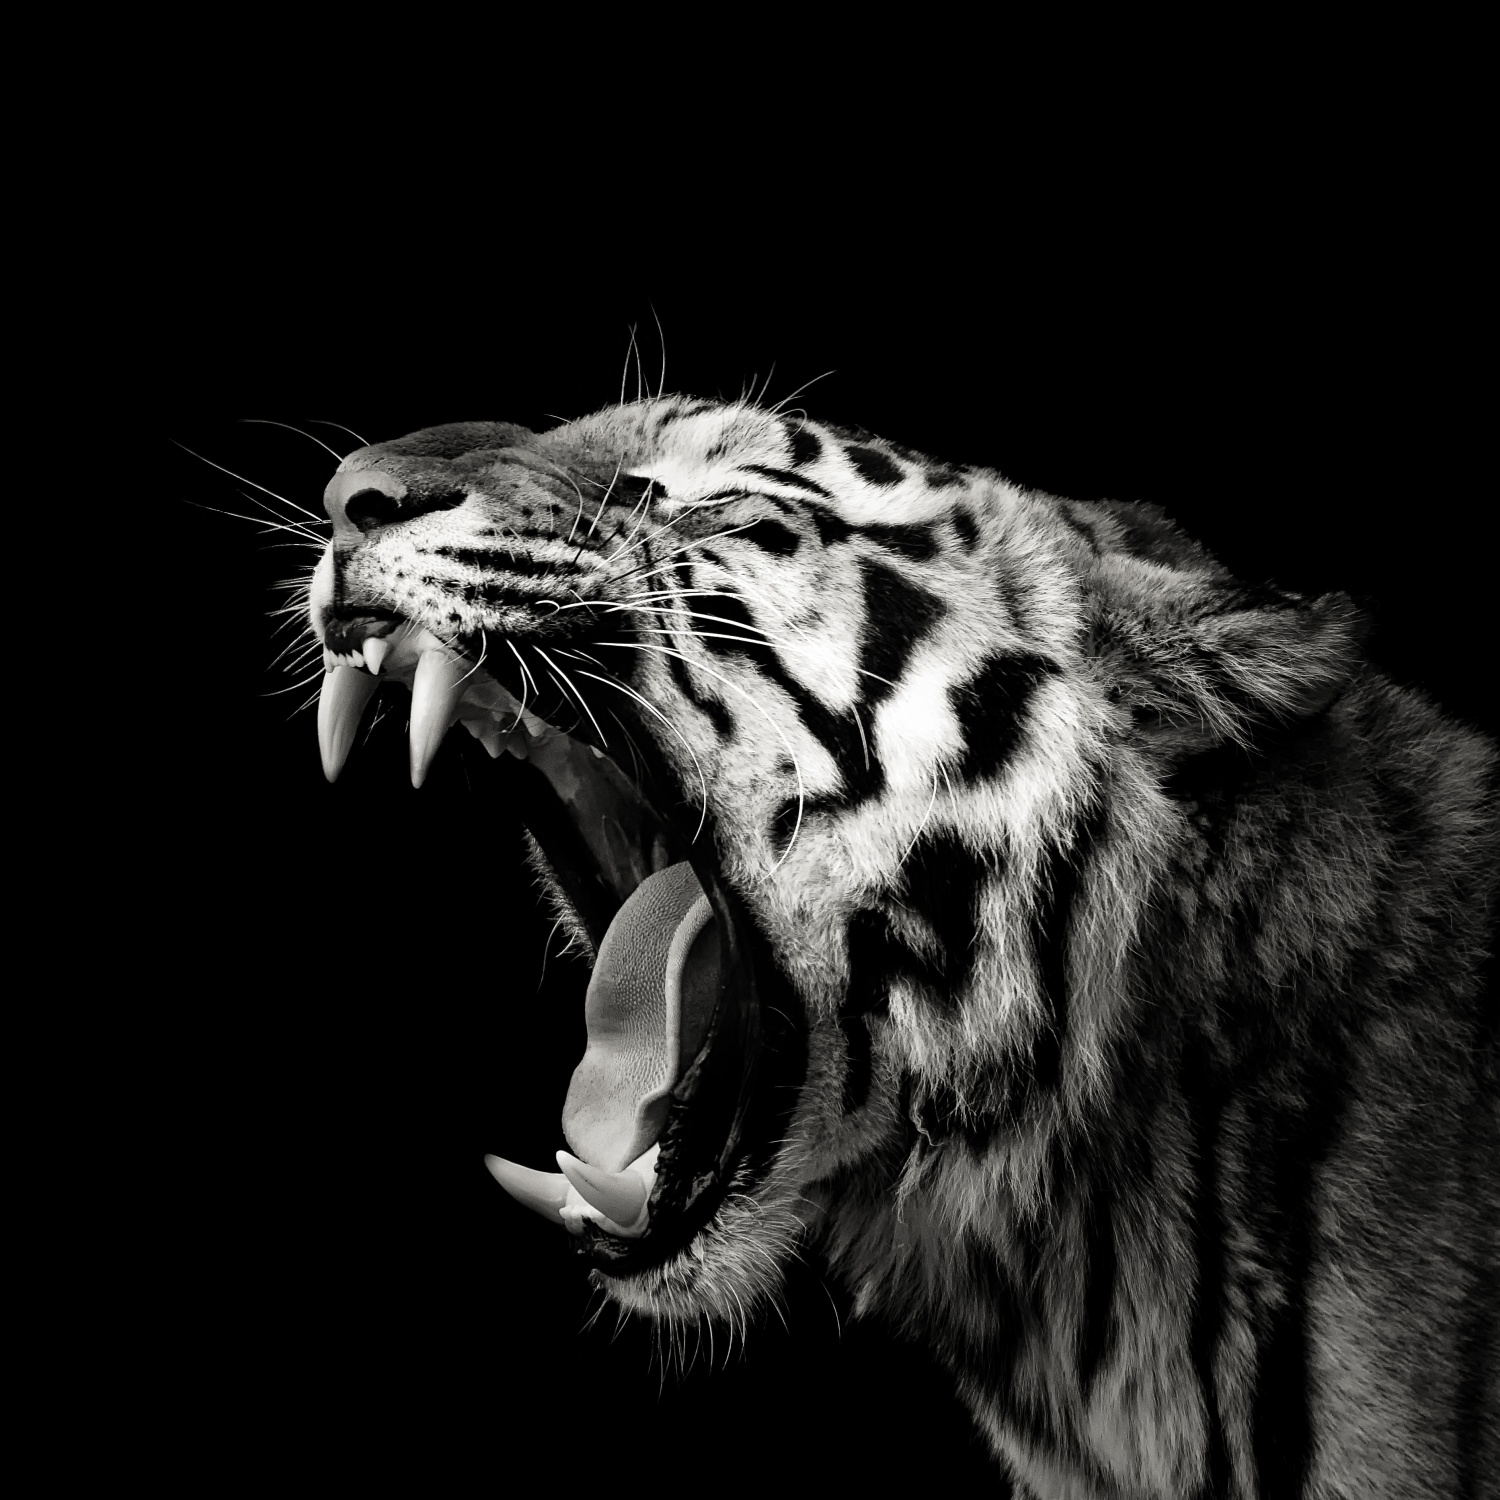tiger: (240, 357, 1462, 1466)
